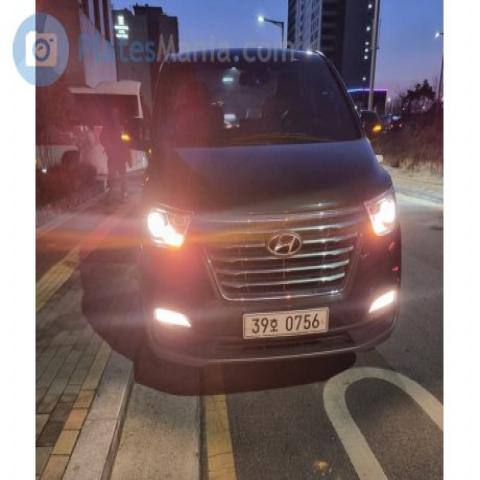LP: (241, 301, 334, 344)
